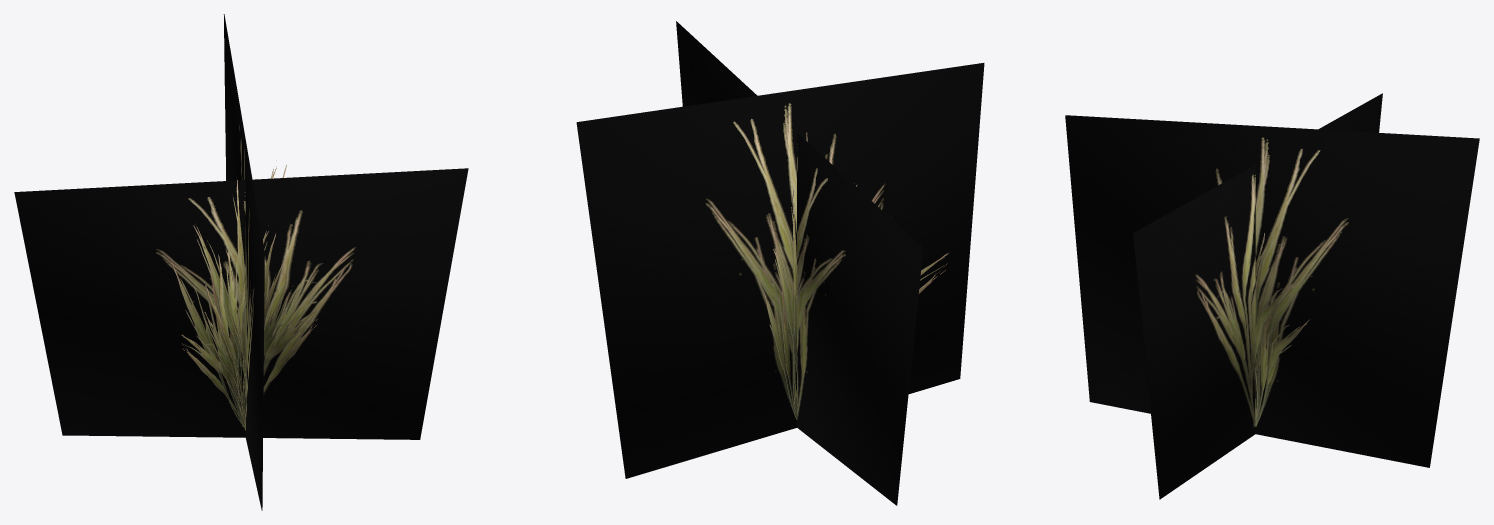
Rendered from grass3.fbx.
3 renders of one model, left to right at view 1: azimuth 30°, elevation 25°; view 2: azimuth 150°, elevation 25°; view 3: azimuth 270°, elevation 25°, orthographic. The views are drawn at different scales.
Visible parts, largest first — view 1: Grass-03; view 2: Grass-03; view 3: Grass-03.
Part boxes in pixels (left/top/right/bottom): Grass-03: left=14, top=14, right=468, bottom=510; Grass-03: left=576, top=21, right=984, bottom=505; Grass-03: left=1065, top=93, right=1479, bottom=499.
Bounding box in the file's own units: 142 × 120 × 133.
